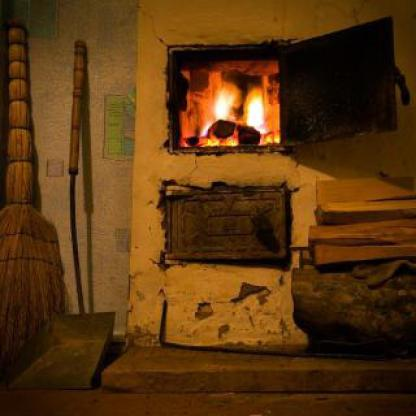Fire: (187, 72, 284, 146)
